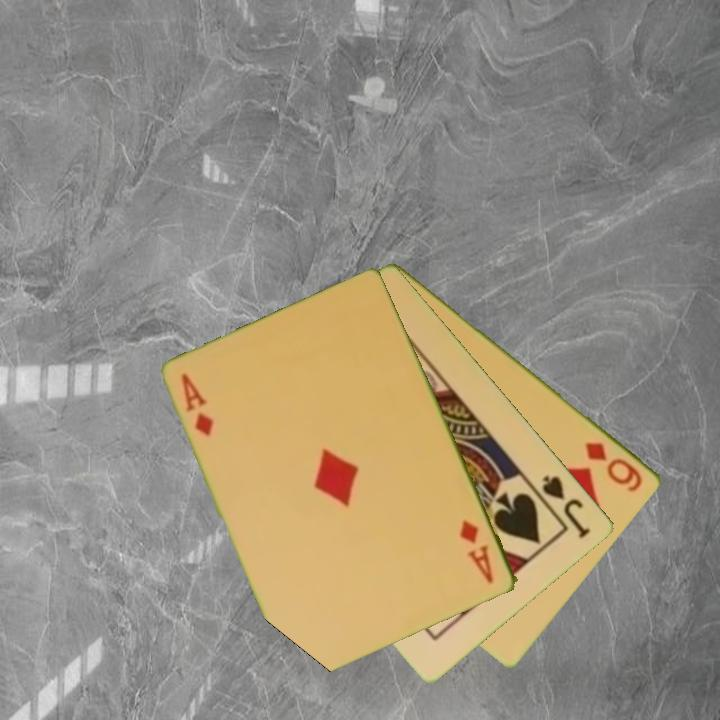6d: (582, 438, 646, 495)
Ad: (456, 516, 497, 587), (178, 370, 218, 439)
Js: (539, 471, 594, 541)
